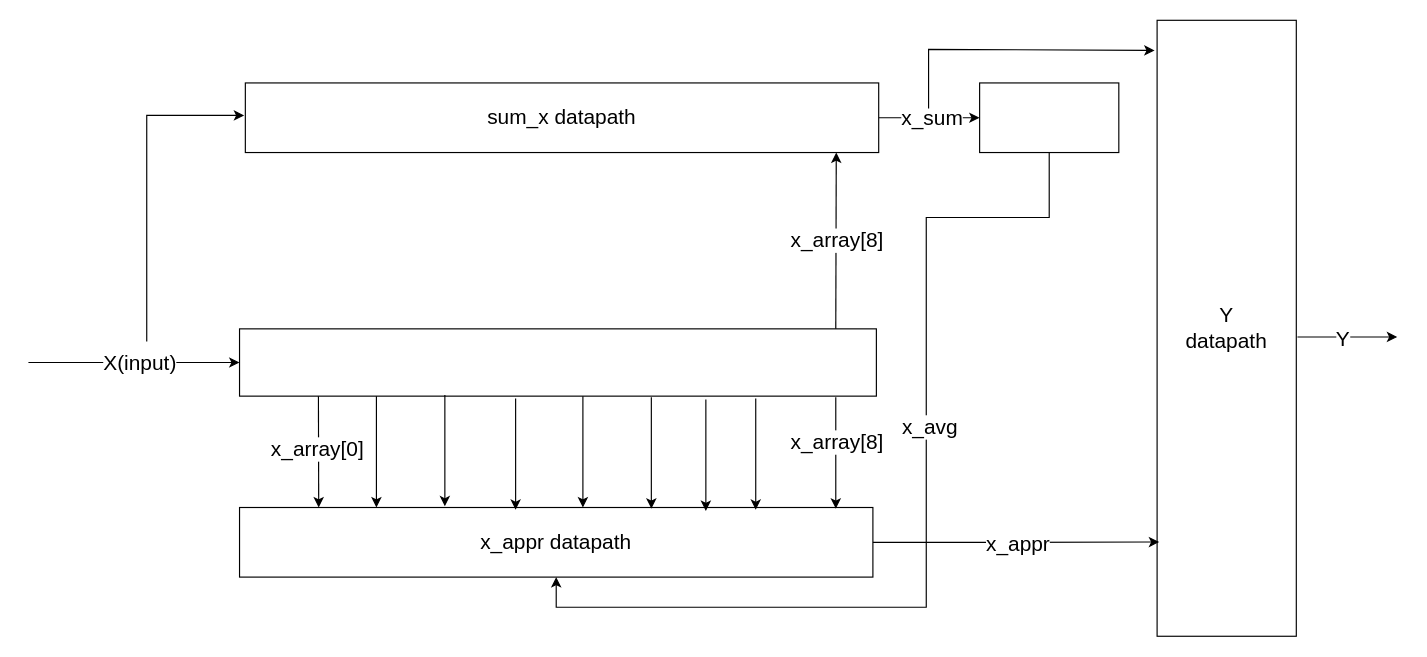
This 1427x657 diagram has some shape labels left out. The centre of each missing label's shape, as x and y in pixels:
Divider: point 1048,117
Shift Register: point 557,362
